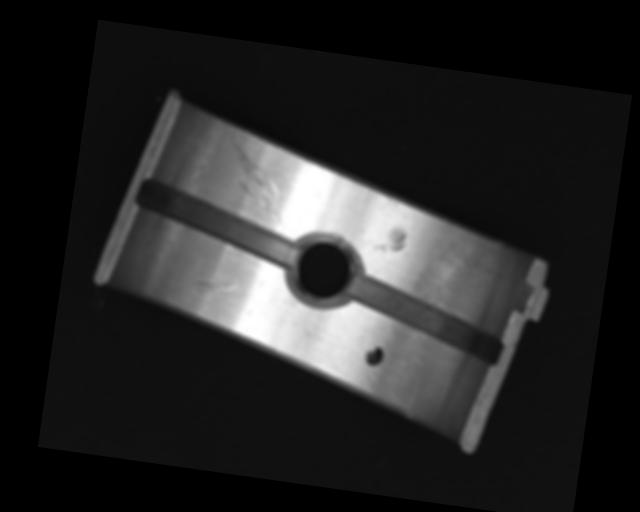blot: (363, 344, 386, 368)
bruise: (373, 223, 408, 254), (382, 195, 400, 209)
gap: (130, 177, 305, 267), (343, 274, 508, 367)
hole: (284, 230, 361, 313)
nick: (221, 132, 295, 227), (190, 275, 249, 298)
